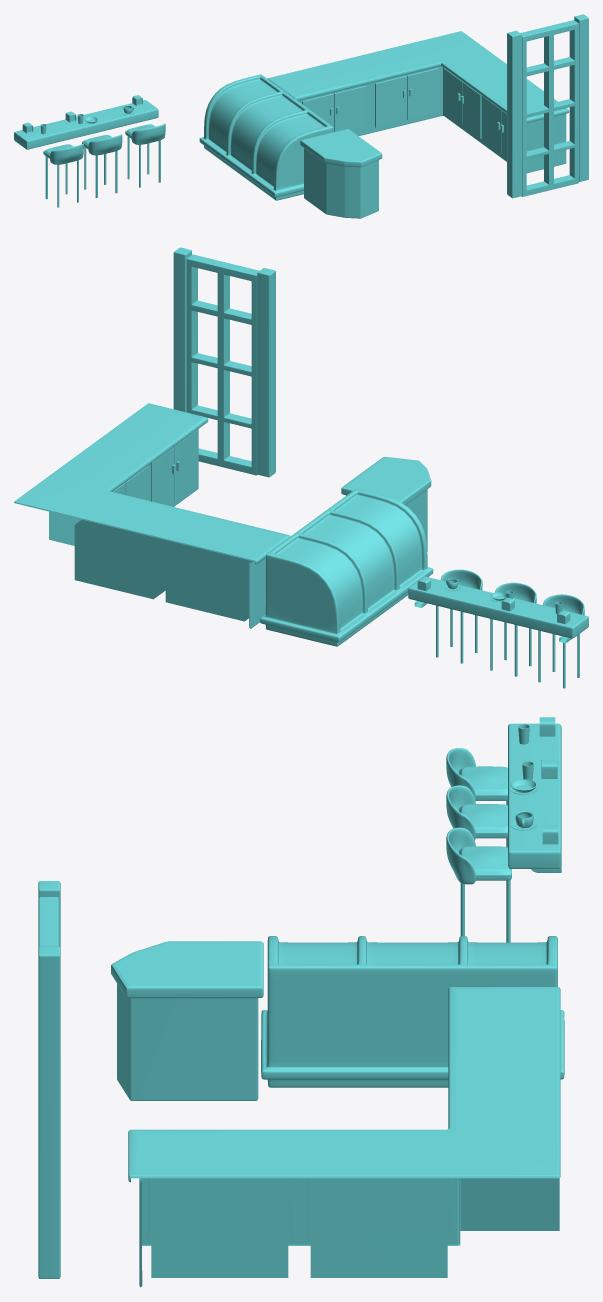
3 renders of one model, top to bottom at view 1: azimuth 30°, elevation 25°; view 2: azimuth 150°, elevation 25°; view 3: azimuth 270°, elevation 25°, orthographic. The views are drawn at different scales.
Visible parts, largest first — view 1: Uv_005; view 2: Uv_005; view 3: Uv_005.
Boxes of the visible parts, x1=… form: Uv_005: x1=14, y1=14, x2=588, y2=218; Uv_005: x1=14, y1=247, x2=588, y2=688; Uv_005: x1=38, y1=717, x2=564, y2=1287.
Bounding box in the file's own units: 860 × 303 × 438.
